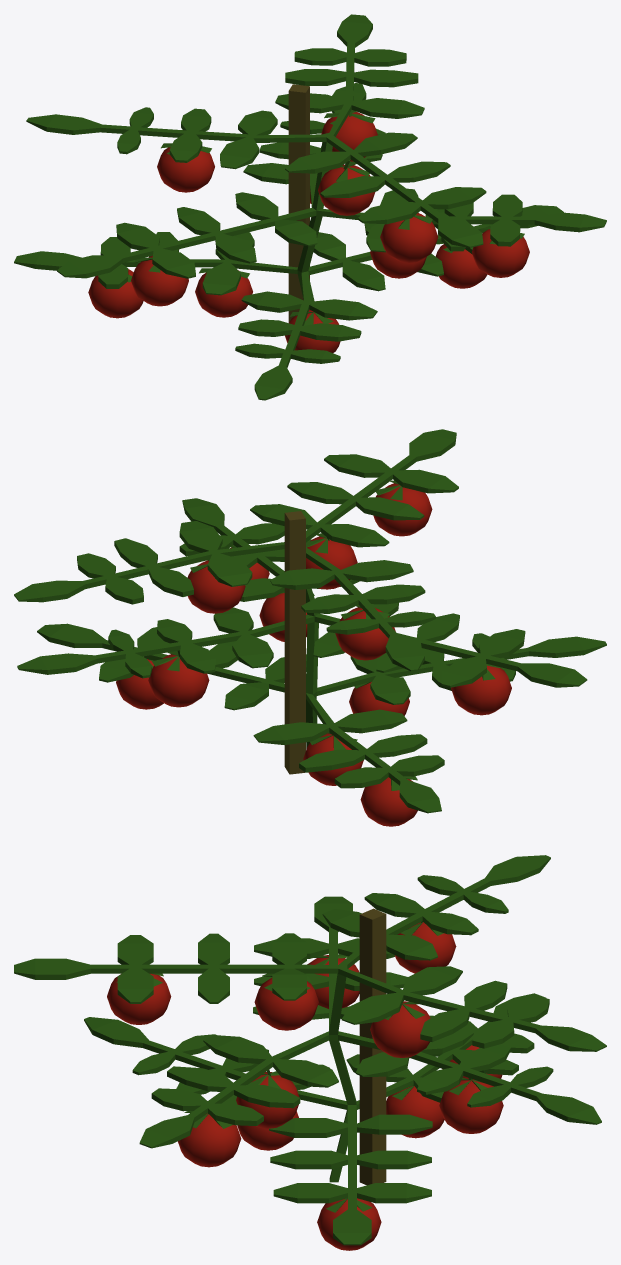
The model's file is TomatoCrop.fbx.
3 views of the same model, one above another, from view 1: azimuth 30°, elevation 25°; view 2: azimuth 150°, elevation 25°; view 3: azimuth 270°, elevation 25° (orthographic). The views are drawn at different scales.
Visible parts, largest first — view 1: Box001, Box002, Sphere010, Sphere011, Sphere008, Sphere007, Sphere012, Sphere003, Sphere005, Sphere001, Sphere013, Sphere004 (+1 smaller); view 2: Box001, Box002, Sphere009, Sphere008, Sphere003, Sphere013, Sphere010, Sphere011, Sphere012, Sphere001, Sphere005, Sphere004 (+1 smaller); view 3: Box001, Box002, Sphere007, Sphere013, Sphere009, Sphere012, Sphere010, Sphere001, Sphere005, Sphere011, Sphere006, Sphere004 (+1 smaller).
Boxes of the visible parts, x1=… form: Box001: x1=14, y1=14, x2=606, y2=400; Box002: x1=288, y1=84, x2=309, y2=322; Sphere010: x1=380, y1=213, x2=438, y2=262; Sphere011: x1=157, y1=143, x2=214, y2=192; Sphere008: x1=131, y1=255, x2=188, y2=306; Sphere007: x1=472, y1=225, x2=529, y2=277; Sphere012: x1=318, y1=159, x2=375, y2=215; Sphere003: x1=88, y1=269, x2=143, y2=318; Sphere005: x1=435, y1=242, x2=487, y2=288; Sphere001: x1=195, y1=259, x2=252, y2=317; Sphere013: x1=321, y1=110, x2=377, y2=161; Sphere004: x1=285, y1=304, x2=340, y2=352; Box001: x1=14, y1=429, x2=606, y2=813; Box002: x1=284, y1=511, x2=305, y2=774; Sphere009: x1=148, y1=649, x2=209, y2=707; Sphere008: x1=451, y1=664, x2=511, y2=715; Sphere003: x1=360, y1=768, x2=417, y2=826; Sphere013: x1=187, y1=560, x2=245, y2=613; Sphere010: x1=373, y1=480, x2=432, y2=536; Sphere011: x1=335, y1=605, x2=395, y2=660; Sphere012: x1=306, y1=533, x2=357, y2=589; Sphere001: x1=303, y1=726, x2=363, y2=785; Sphere005: x1=116, y1=659, x2=163, y2=709; Sphere004: x1=349, y1=677, x2=409, y2=715; Box001: x1=14, y1=855, x2=606, y2=1245; Box002: x1=359, y1=908, x2=386, y2=1185; Sphere007: x1=178, y1=1111, x2=241, y2=1167; Sphere013: x1=370, y1=1000, x2=430, y2=1057; Sphere009: x1=439, y1=1077, x2=503, y2=1133; Sphere012: x1=254, y1=973, x2=318, y2=1030; Sphere010: x1=107, y1=973, x2=171, y2=1024; Sphere001: x1=386, y1=1076, x2=444, y2=1138; Sphere005: x1=317, y1=1188, x2=381, y2=1250; Sphere011: x1=395, y1=921, x2=456, y2=973; Sphere006: x1=236, y1=1069, x2=299, y2=1128; Sphere004: x1=237, y1=1111, x2=298, y2=1150.
Size of the model in its own units: 330 by 151 by 302.
